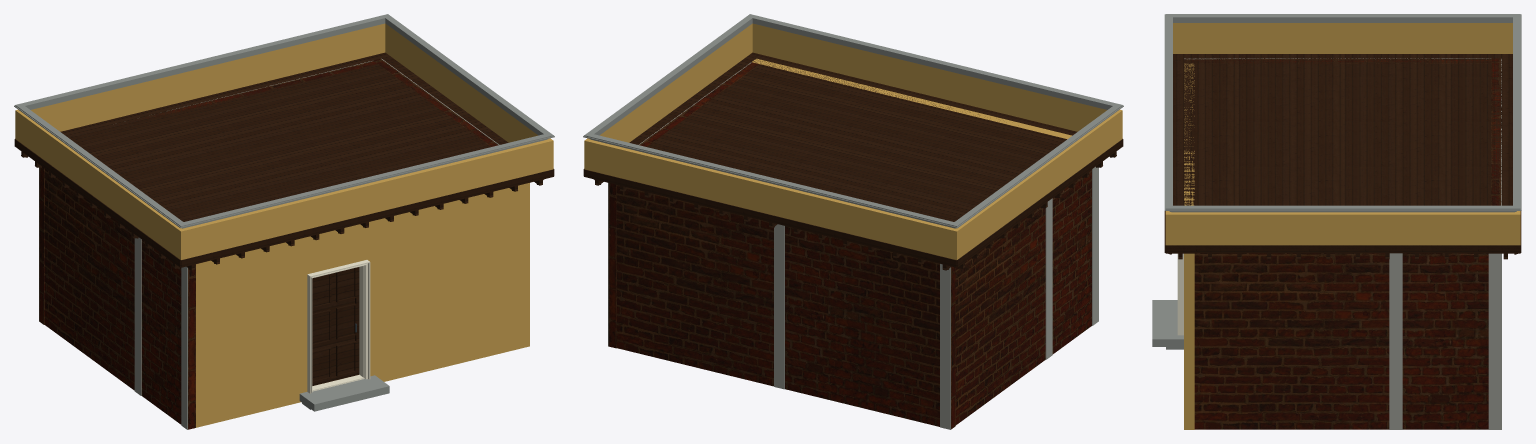
Rendered from building.glb.
3 renders of one model, left to right at view 1: azimuth 30°, elevation 25°; view 2: azimuth 150°, elevation 25°; view 3: azimuth 270°, elevation 25°, orthographic. The views are drawn at different scales.
Visible parts, largest first — view 1: house:0/edge0/z0/house:0/edge0/z0/wall_0_0, roof_assembly/cubierta/roof_substrate#0001, roof_assembly/cubierta/roof_parapet#0001, house:0/edge3/z0/house:0/edge3/z0/wall_0_0, roof_assembly/cubierta/roof_parapet_cap#0001, roof_assembly/cubierta/roof_fascia#0002, house:0/edge2/z0/house:0/edge2/z0/wall_0_0, site/entrance/0/entrance_step#0002, roof_assembly/cubierta/roof_fascia#0001, house:0/edge3/z0/house:0/edge3/z0/column_2_0, house:0/edge3/z0/house:0/edge3/z0/column_1_0, house:0/edge1/z0/house:0/edge1/z0/wall_0_0 (+8 smaller); view 2: house:0/edge2/z0/house:0/edge2/z0/wall_0_0, roof_assembly/cubierta/roof_substrate#0001, roof_assembly/cubierta/roof_parapet#0001, house:0/edge3/z0/house:0/edge3/z0/wall_0_0, roof_assembly/cubierta/roof_parapet_cap#0001, roof_assembly/cubierta/roof_fascia#0004, house:0/edge1/z0/house:0/edge1/z0/wall_0_0, house:0/edge2/z0/house:0/edge2/z0/column_2_0, house:0/edge2/z0/house:0/edge2/z0/column_1_0, house:0/edge0/z0/house:0/edge0/z0/wall_0_0, roof_assembly/cubierta/roof_fascia#0001, house:0/edge3/z0/house:0/edge3/z0/column_2_0 (+1 smaller); view 3: roof_assembly/cubierta/roof_substrate#0001, house:0/edge1/z0/house:0/edge1/z0/wall_0_0, roof_assembly/cubierta/roof_parapet#0001, roof_assembly/cubierta/roof_parapet_cap#0001, roof_assembly/cubierta/roof_fascia#0003, house:0/edge0/z0/house:0/edge0/z0/wall_0_0, house:0/edge1/z0/house:0/edge1/z0/column_2_0, house:0/edge1/z0/house:0/edge1/z0/column_1_0, house:0/edge2/z0/house:0/edge2/z0/wall_0_0, site/entrance/0/entrance_step#0002, house:0/edge3/z0/house:0/edge3/z0/wall_0_0, house:0/edge0/z0/opening_u2.80_v0.12/door_moulding#0028.
Part boxes in pixels (bbox=[...]): house:0/edge0/z0/house:0/edge0/z0/wall_0_0: bbox=[196, 183, 529, 427]; roof_assembly/cubierta/roof_substrate#0001: bbox=[60, 52, 508, 221]; roof_assembly/cubierta/roof_parapet#0001: bbox=[15, 23, 553, 259]; house:0/edge3/z0/house:0/edge3/z0/wall_0_0: bbox=[44, 168, 195, 429]; roof_assembly/cubierta/roof_parapet_cap#0001: bbox=[14, 14, 554, 228]; roof_assembly/cubierta/roof_fascia#0002: bbox=[181, 169, 553, 267]; house:0/edge2/z0/house:0/edge2/z0/wall_0_0: bbox=[39, 61, 377, 324]; site/entrance/0/entrance_step#0002: bbox=[299, 375, 389, 411]; roof_assembly/cubierta/roof_fascia#0001: bbox=[14, 139, 180, 267]; house:0/edge3/z0/house:0/edge3/z0/column_2_0: bbox=[134, 237, 141, 395]; house:0/edge3/z0/house:0/edge3/z0/column_1_0: bbox=[181, 266, 187, 429]; house:0/edge1/z0/house:0/edge1/z0/wall_0_0: bbox=[373, 58, 498, 146]; house:0/edge2/z0/house:0/edge2/z0/wall_0_0: bbox=[617, 185, 955, 429]; roof_assembly/cubierta/roof_substrate#0001: bbox=[629, 52, 1077, 221]; roof_assembly/cubierta/roof_parapet#0001: bbox=[584, 23, 1122, 259]; house:0/edge3/z0/house:0/edge3/z0/wall_0_0: bbox=[955, 169, 1091, 425]; roof_assembly/cubierta/roof_parapet_cap#0001: bbox=[583, 14, 1123, 228]; roof_assembly/cubierta/roof_fascia#0004: bbox=[584, 169, 956, 267]; house:0/edge1/z0/house:0/edge1/z0/wall_0_0: bbox=[608, 62, 759, 348]; house:0/edge2/z0/house:0/edge2/z0/column_2_0: bbox=[774, 224, 784, 389]; house:0/edge2/z0/house:0/edge2/z0/column_1_0: bbox=[940, 264, 950, 429]; house:0/edge0/z0/house:0/edge0/z0/wall_0_0: bbox=[752, 58, 1071, 139]; roof_assembly/cubierta/roof_fascia#0001: bbox=[957, 139, 1123, 267]; house:0/edge3/z0/house:0/edge3/z0/column_2_0: bbox=[1045, 198, 1052, 359]; roof_assembly/cubierta/roof_substrate#0001: bbox=[1173, 54, 1512, 205]; house:0/edge1/z0/house:0/edge1/z0/wall_0_0: bbox=[1194, 253, 1488, 429]; roof_assembly/cubierta/roof_parapet#0001: bbox=[1165, 23, 1520, 245]; roof_assembly/cubierta/roof_parapet_cap#0001: bbox=[1164, 14, 1521, 212]; roof_assembly/cubierta/roof_fascia#0003: bbox=[1165, 245, 1520, 253]; house:0/edge0/z0/house:0/edge0/z0/wall_0_0: bbox=[1184, 63, 1194, 429]; house:0/edge1/z0/house:0/edge1/z0/column_2_0: bbox=[1389, 253, 1402, 429]; house:0/edge1/z0/house:0/edge1/z0/column_1_0: bbox=[1488, 253, 1501, 429]; house:0/edge2/z0/house:0/edge2/z0/wall_0_0: bbox=[1491, 58, 1501, 205]; site/entrance/0/entrance_step#0002: bbox=[1152, 300, 1183, 346]; house:0/edge3/z0/house:0/edge3/z0/wall_0_0: bbox=[1184, 59, 1491, 63]; house:0/edge0/z0/opening_u2.80_v0.12/door_moulding#0028: bbox=[1177, 253, 1183, 335].
Bounding box in the file's own units: 8.74 × 4.81 × 6.97.
Materials: 7 (2 with a texture image).
